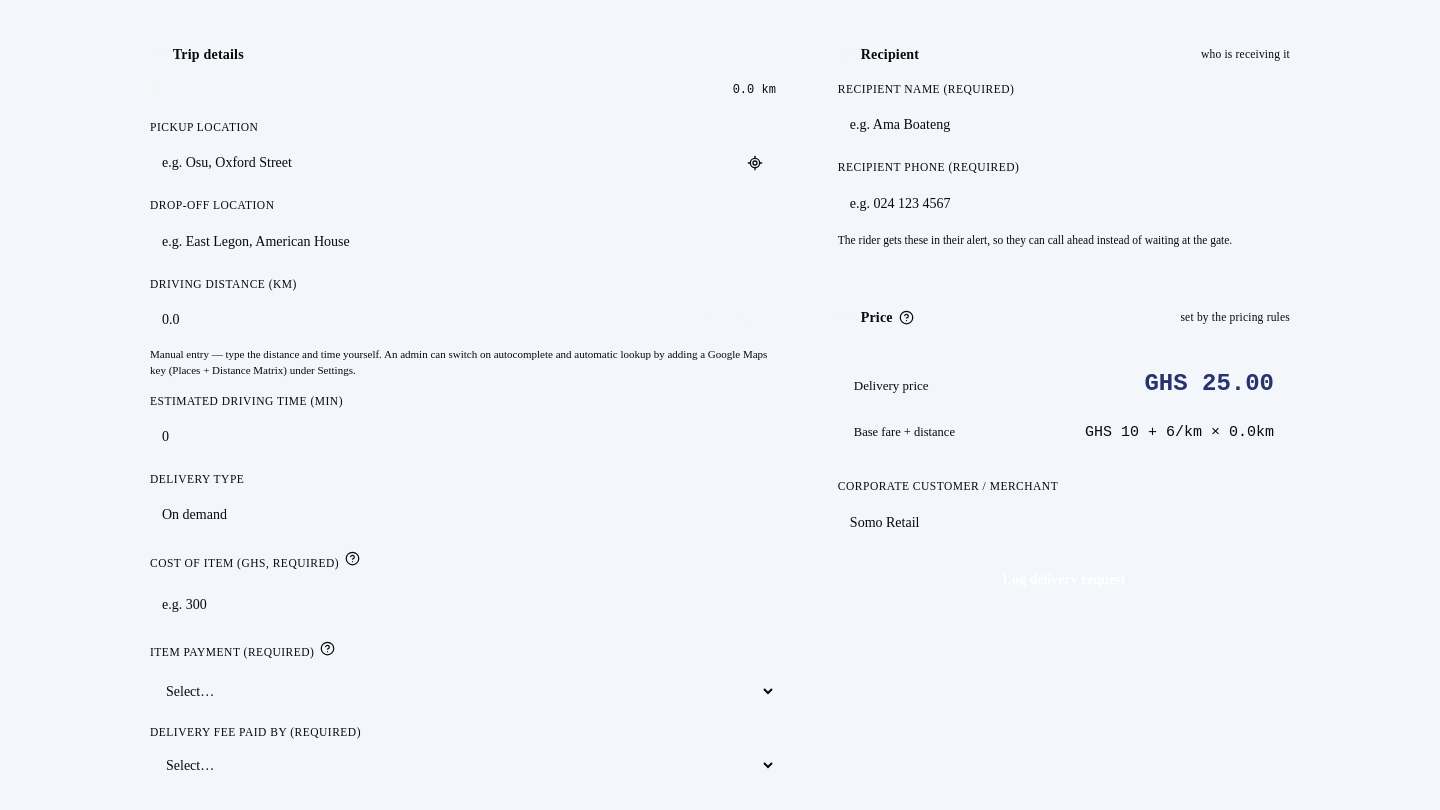
pickup location button › falls back to coordinates when Maps is not loaded
The image size is (1440, 810).
Click the button named "Use my current location": (755, 163) [735, 143, 775, 182]
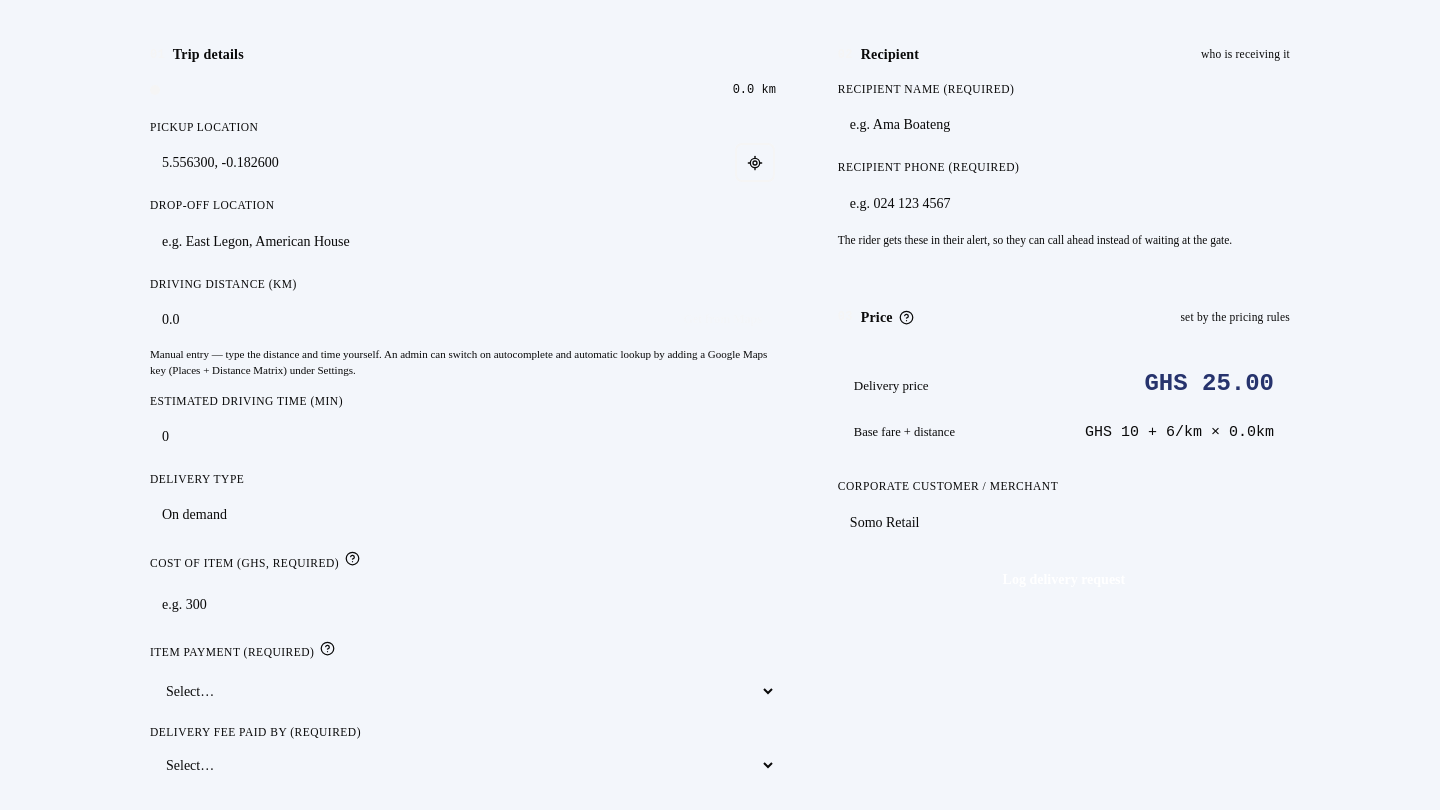
Check: the field with placeholder "e.g. Osu, Oxford Street" holds "5.556300, -0.182600", box [150, 142, 776, 183]
